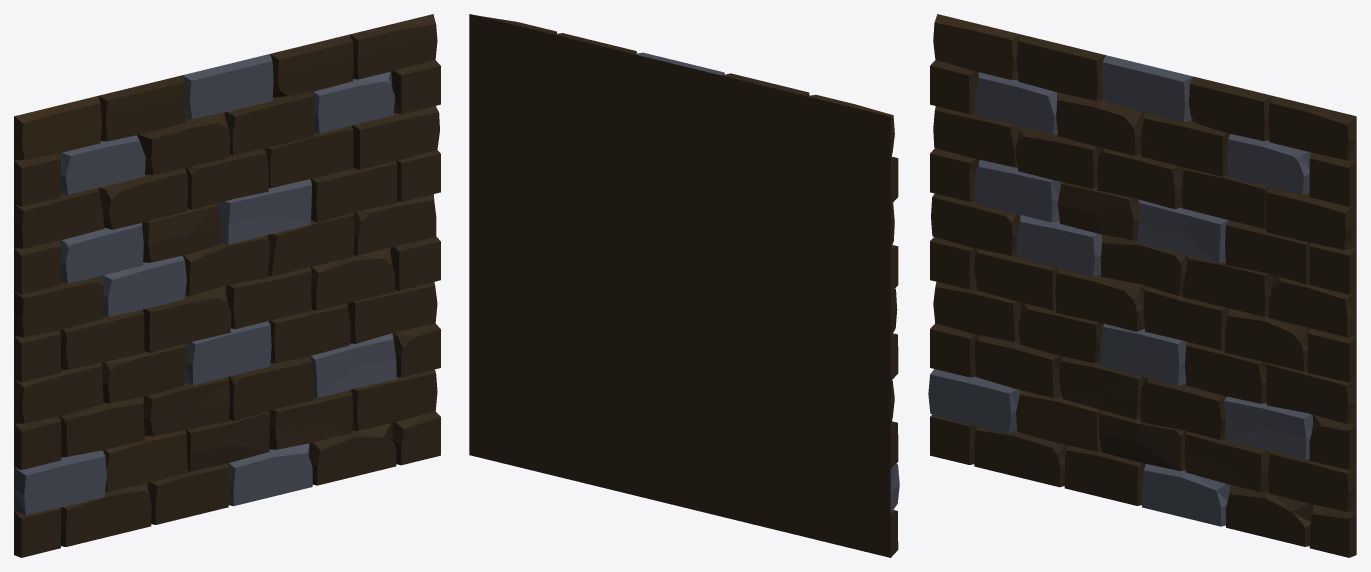
Rendered from Wall_24.fbx.
The picture shows the model from 3 angles, left to right: view 1: azimuth 30°, elevation 25°; view 2: azimuth 150°, elevation 25°; view 3: azimuth 330°, elevation 25°; orthographic projection.
Parts seen in each view (by area): view 1: Wall_24; view 2: Wall_24; view 3: Wall_24.
Part boxes in pixels (bbox=[...]): Wall_24: bbox=[14, 14, 440, 557]; Wall_24: bbox=[469, 14, 899, 557]; Wall_24: bbox=[928, 14, 1356, 557].
Bounding box in the file's own units: 4 × 4 × 0.1568.
